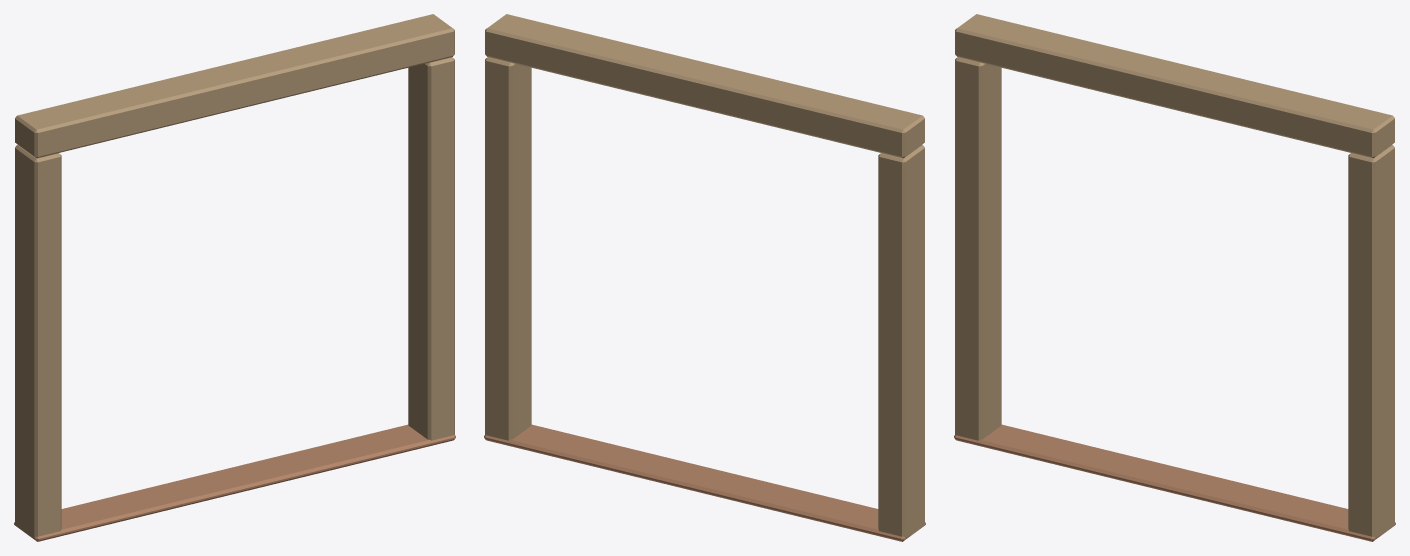
The model's file is saloon_door_frame.glb.
The picture shows the model from 3 angles, left to right: view 1: azimuth 30°, elevation 25°; view 2: azimuth 150°, elevation 25°; view 3: azimuth 330°, elevation 25°; orthographic projection.
Parts seen in each view (by area): view 1: saloon_door_frame; view 2: saloon_door_frame; view 3: saloon_door_frame.
Boxes of the visible parts, box(x1,y1,x2,y2) form: saloon_door_frame: box(14, 14, 455, 541); saloon_door_frame: box(484, 14, 925, 541); saloon_door_frame: box(954, 14, 1395, 541).
Size of the model in its own units: 2.76 by 2.58 by 0.27.
